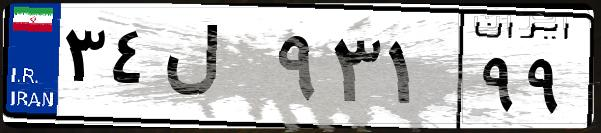1: (385, 28, 445, 110)
3: (330, 28, 385, 110), (57, 26, 110, 100)
4: (110, 28, 158, 98)
9: (270, 28, 330, 110), (475, 38, 525, 113), (525, 38, 570, 115)
ل: (158, 20, 270, 120)
